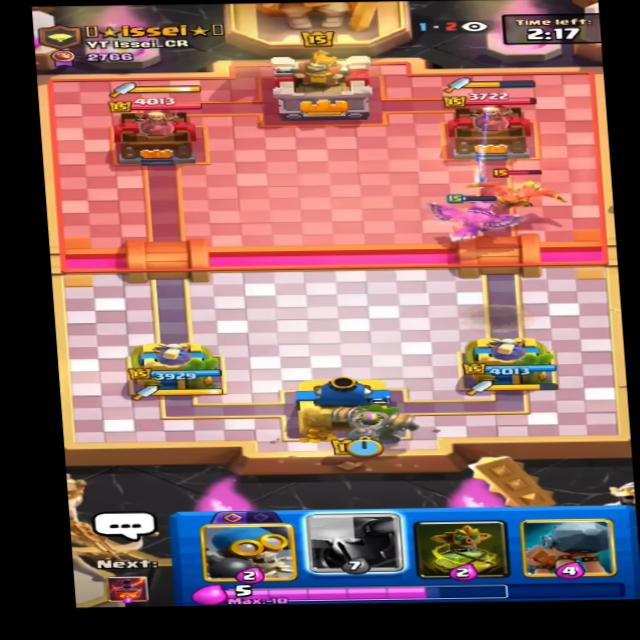phoenix: (467, 167, 580, 216)
